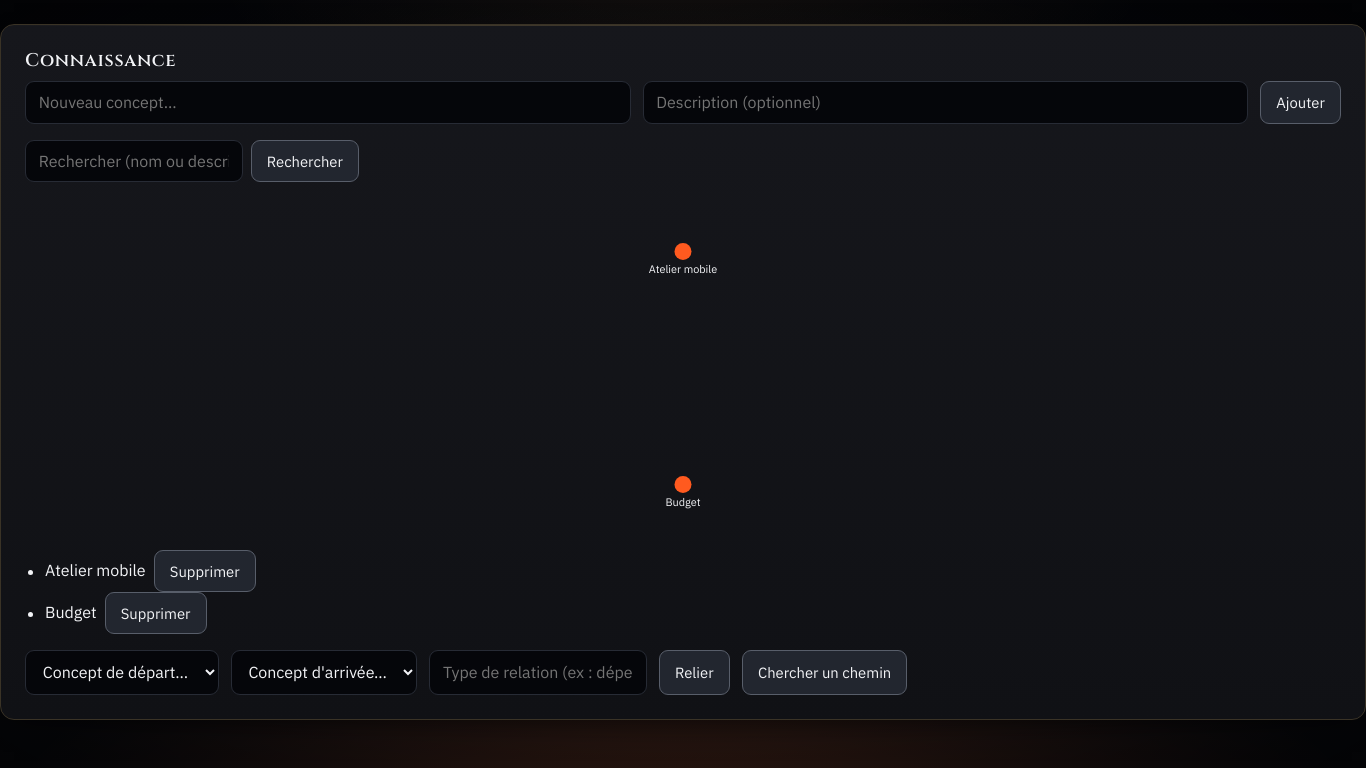
Test: KnowledgeSection — recherche, isolés, suppressions › filtre la liste des concepts sur une recherche
expect the number of list items is 2: met, box [45,550,256,592]; [45,592,207,634]
Type "atelier" into the field named "Rechercher un concept". click: (134, 161)
box: [25,140,243,182]
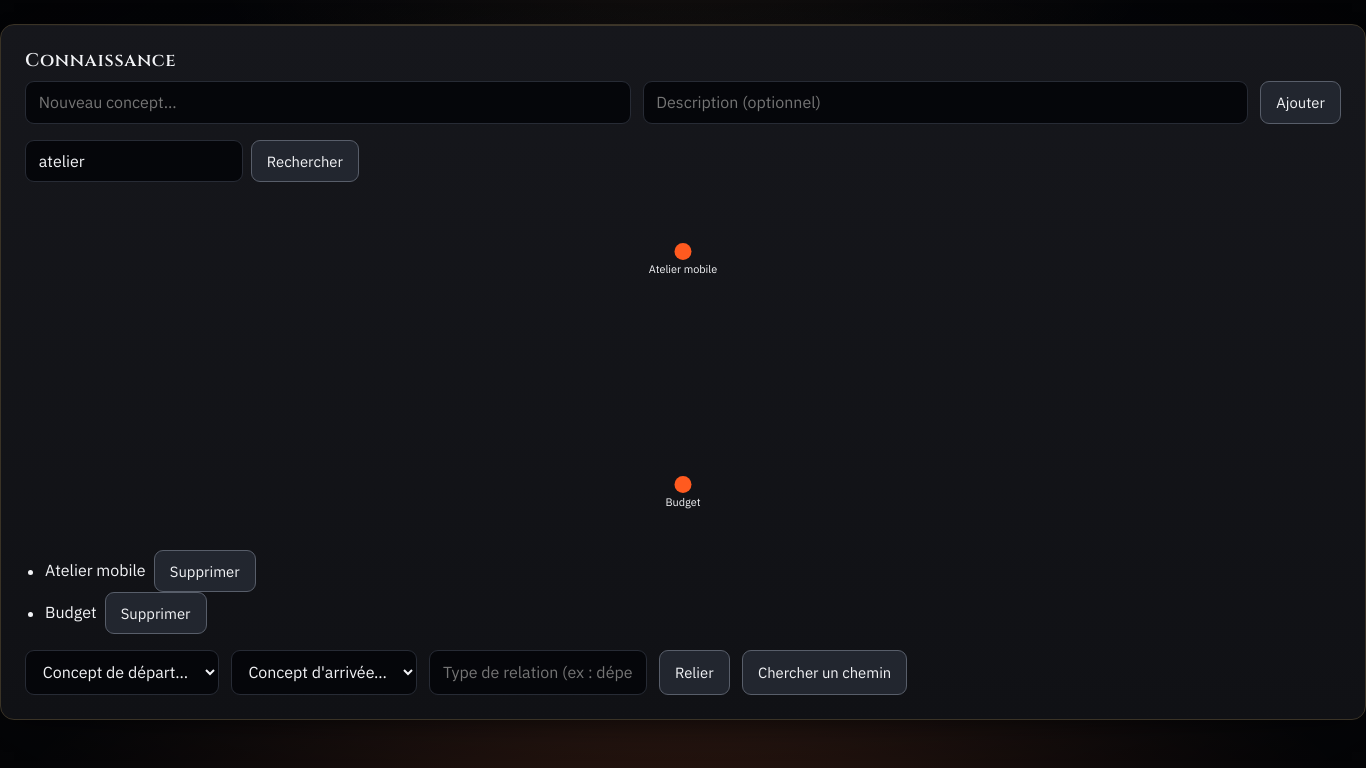
Click the button "Rechercher". click: (305, 161)
box: [251,140,359,182]
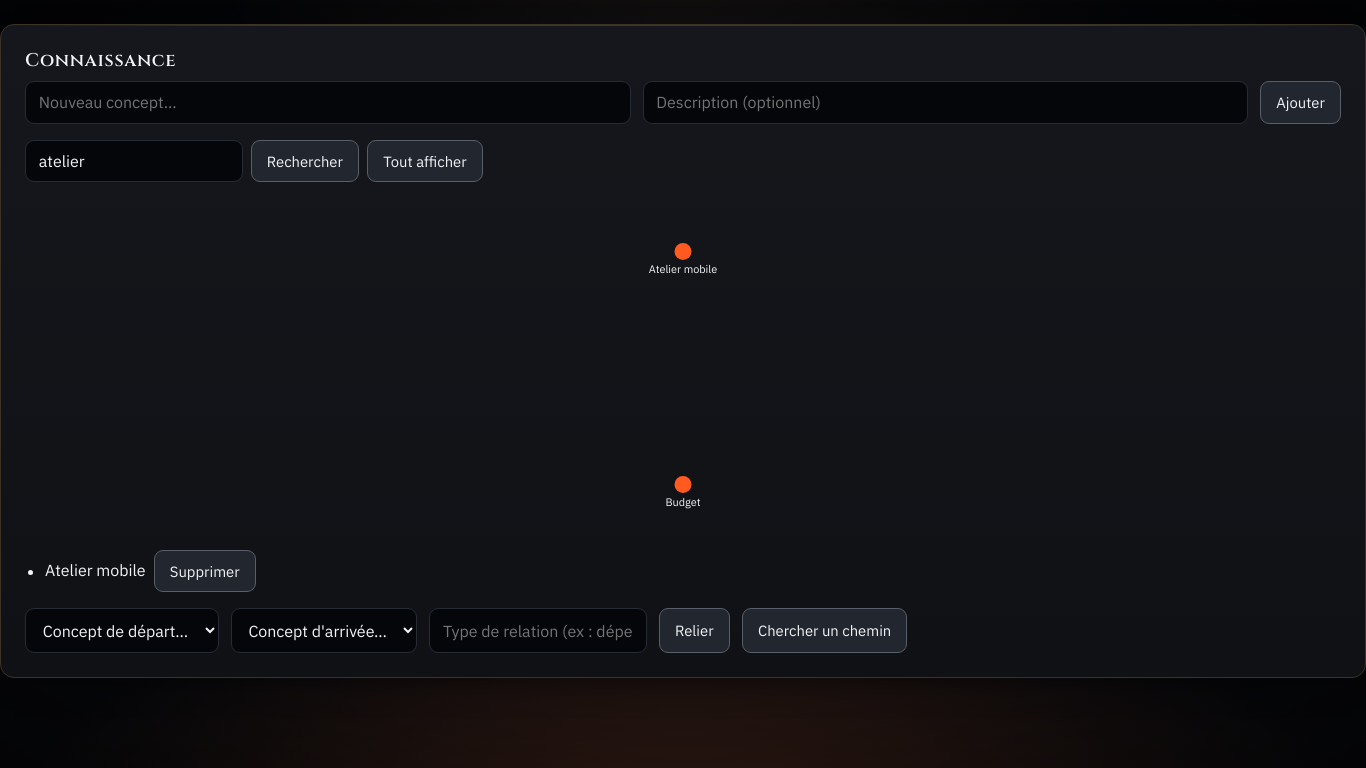
expect the number of list items is 1: met, box [45,550,256,592]
